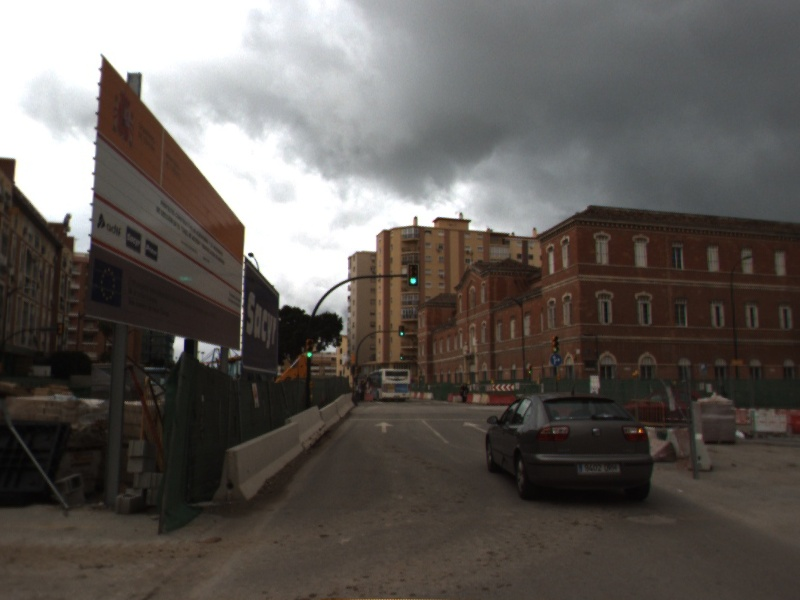STRAIGHT: (460, 420, 489, 434), (373, 420, 396, 435)
